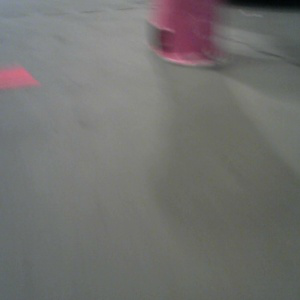right: (145, 1, 227, 67)
